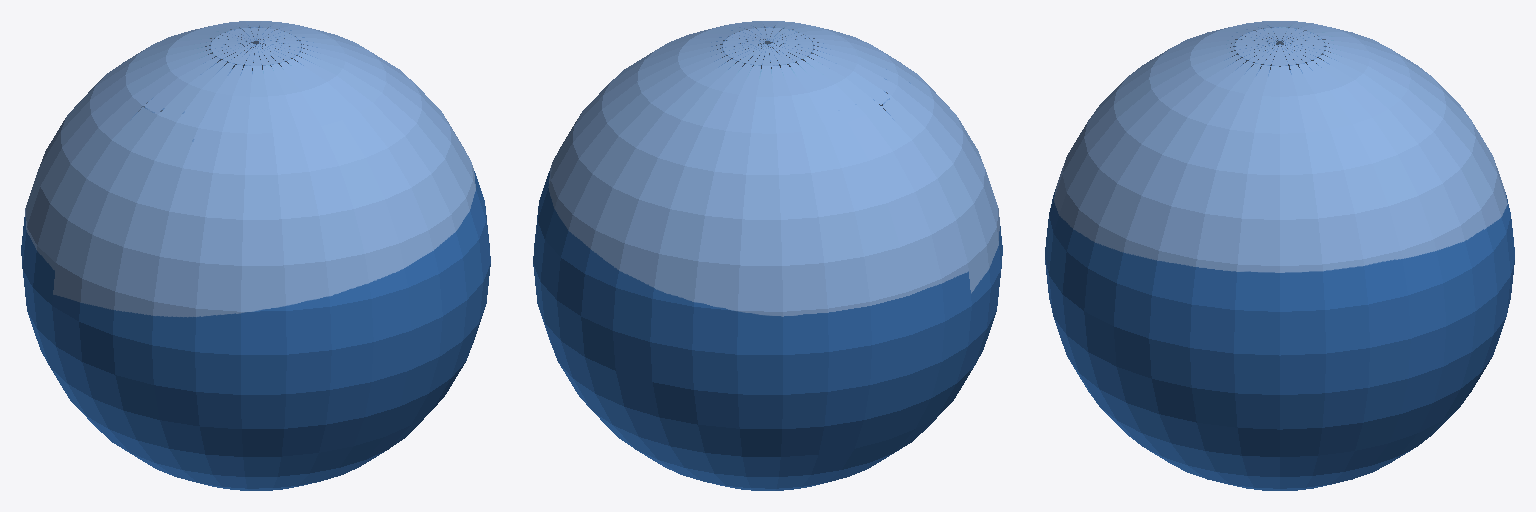
3 views of the same model, side by side, from view 1: azimuth 30°, elevation 25°; view 2: azimuth 150°, elevation 25°; view 3: azimuth 270°, elevation 25° (orthographic).
Parts seen in each view (by area): view 1: 球; view 2: 球; view 3: 球.
Boxes of the visible parts, x1=… form: 球: x1=21, y1=21, x2=490, y2=490; 球: x1=533, y1=21, x2=1002, y2=490; 球: x1=1045, y1=21, x2=1514, y2=490.
Size of the model in its own units: 2 by 2 by 2.
Materials: 1 (1 with a texture image).